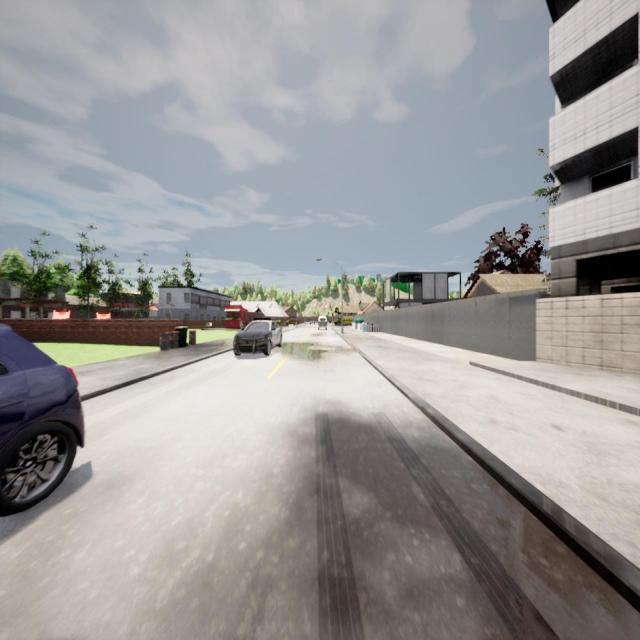Vehicle: (0, 324, 84, 514), (232, 321, 284, 356), (318, 316, 328, 330), (310, 318, 315, 325)
